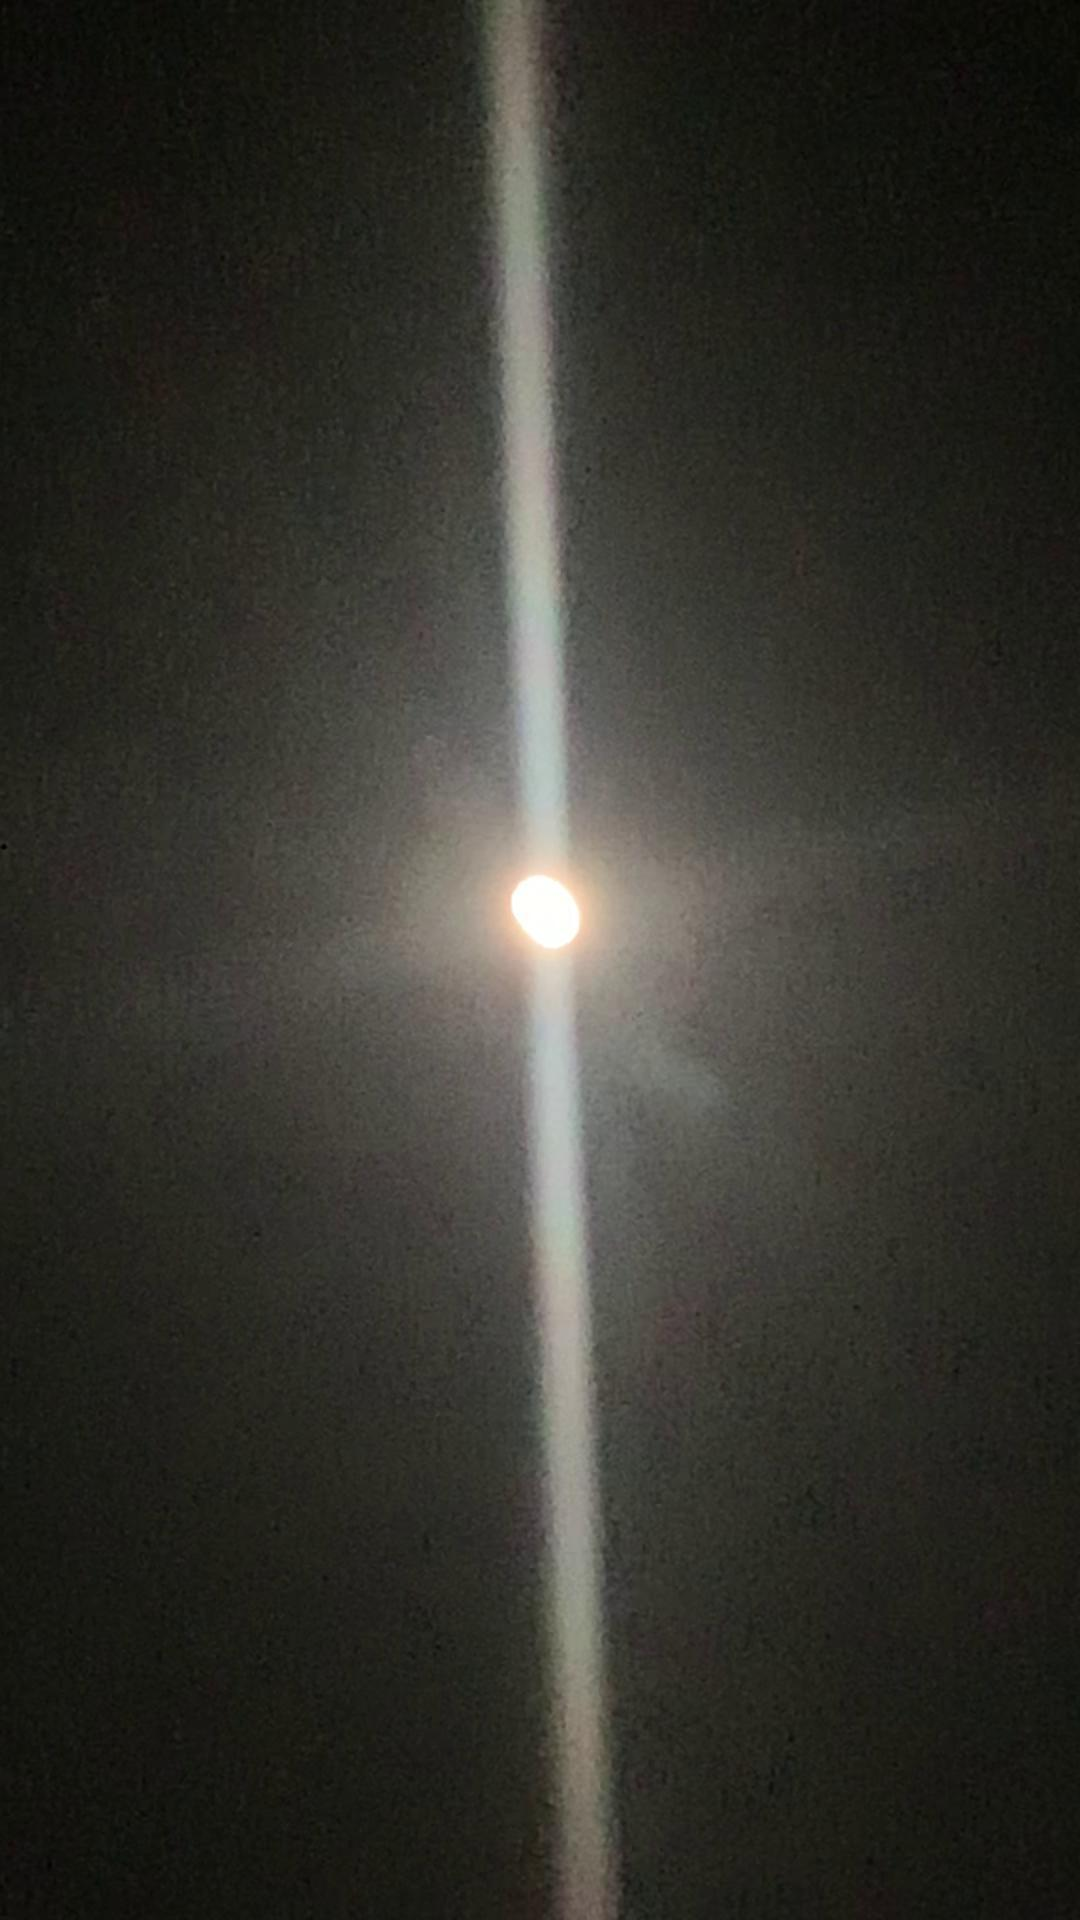moon: (492, 858, 615, 971)
